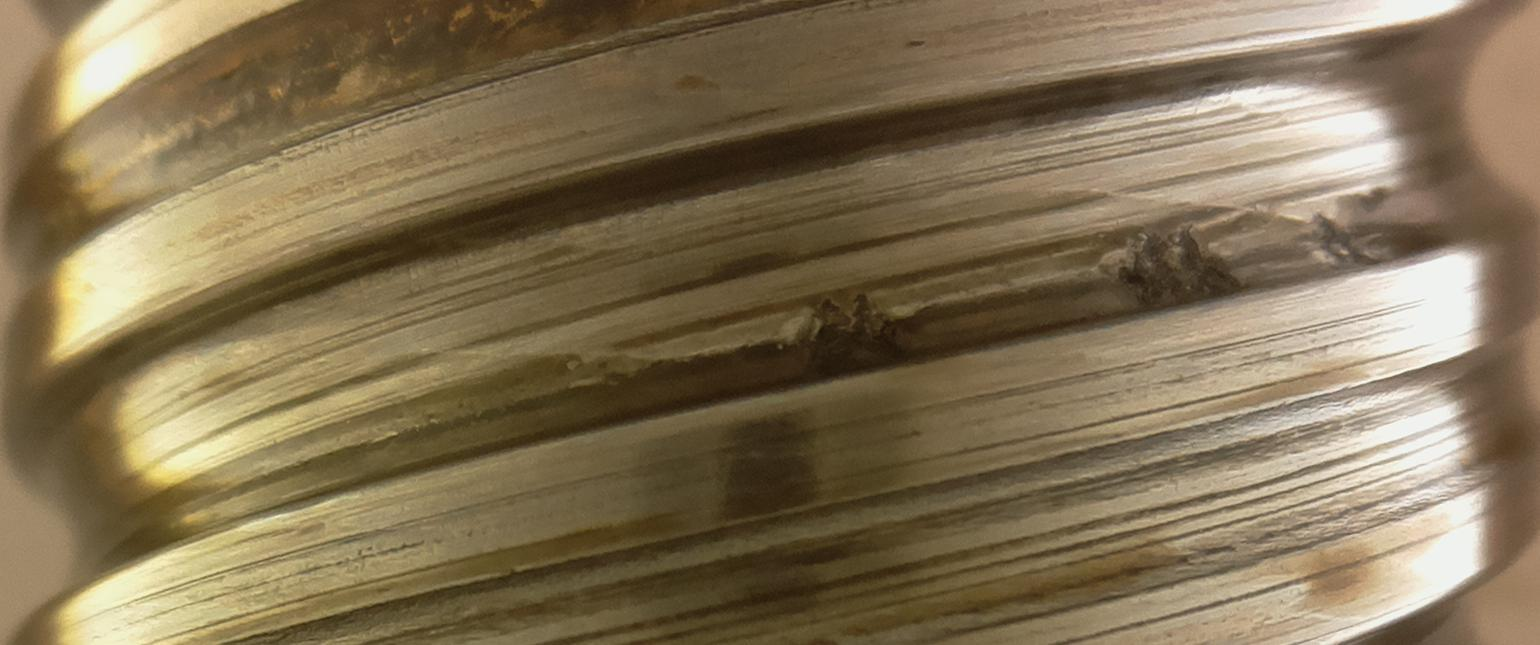pitting: (1118, 221, 1240, 312), (788, 294, 908, 385), (1299, 214, 1379, 273)
